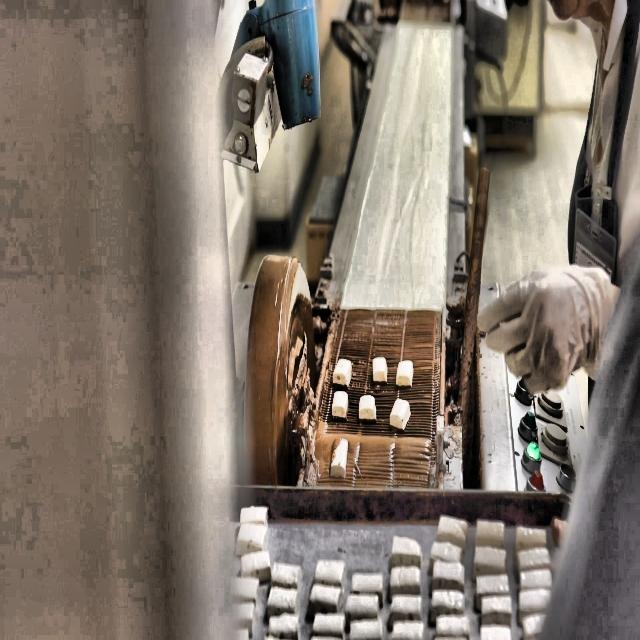gloved: (476, 266, 609, 412)
